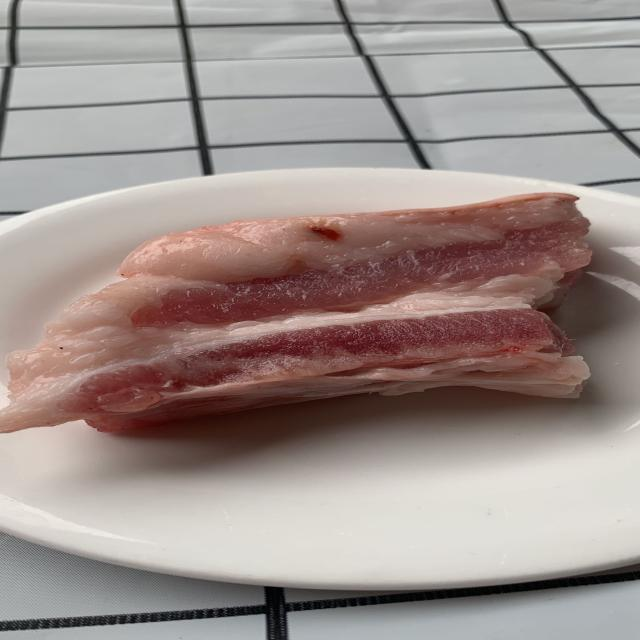chicken: (0, 187, 604, 430)
